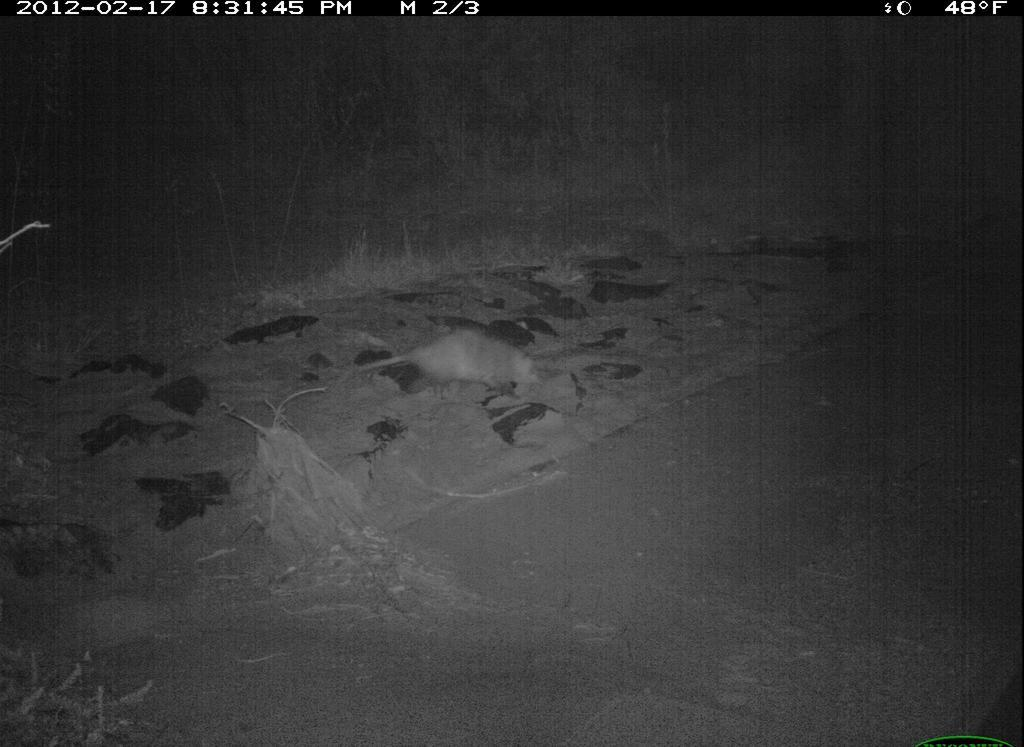opossum: (349, 321, 559, 408)
